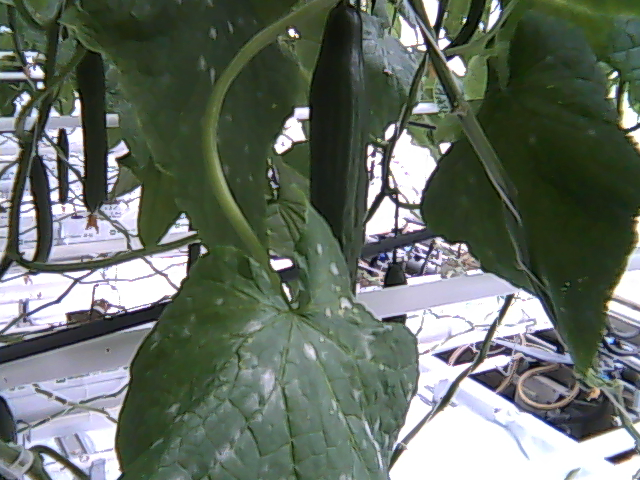concombre: (303, 1, 374, 296)
